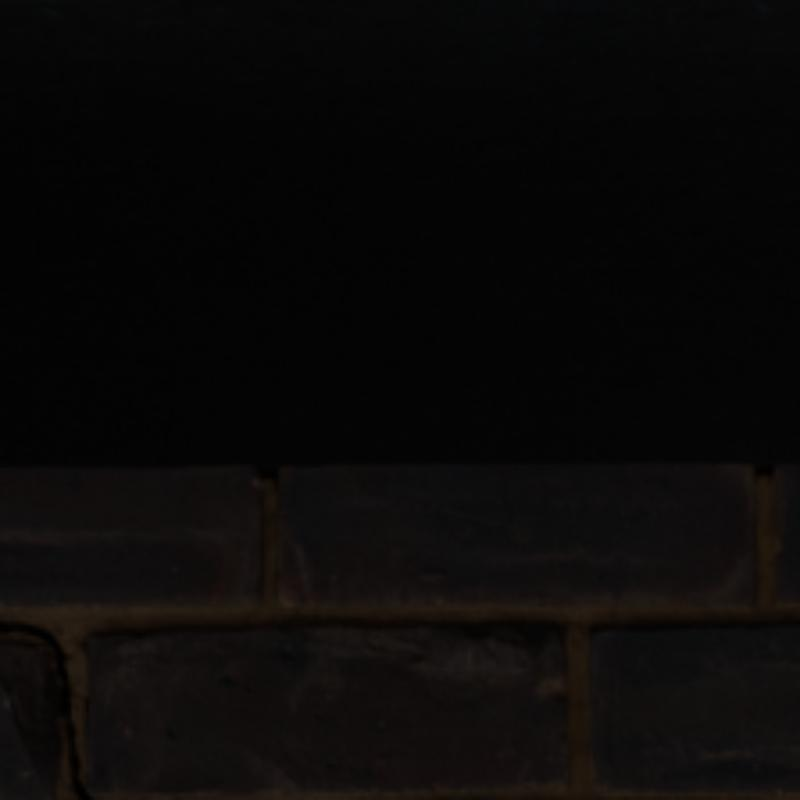crack: (0, 621, 89, 796)
